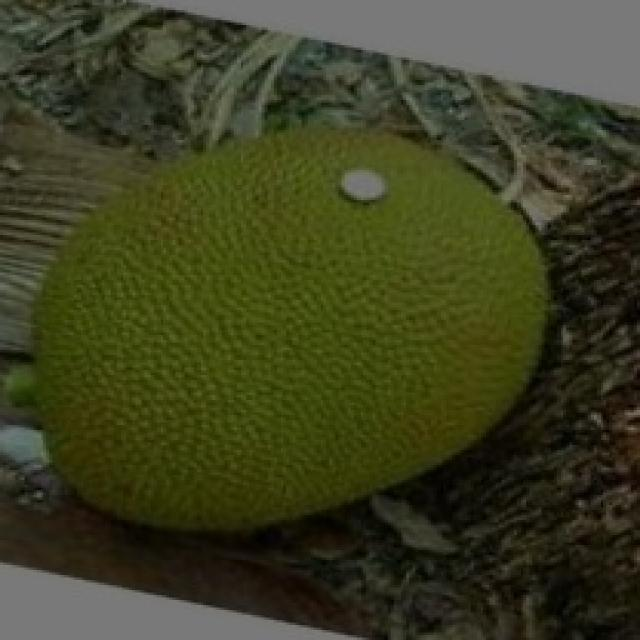Fruit: (203, 95, 591, 515)
